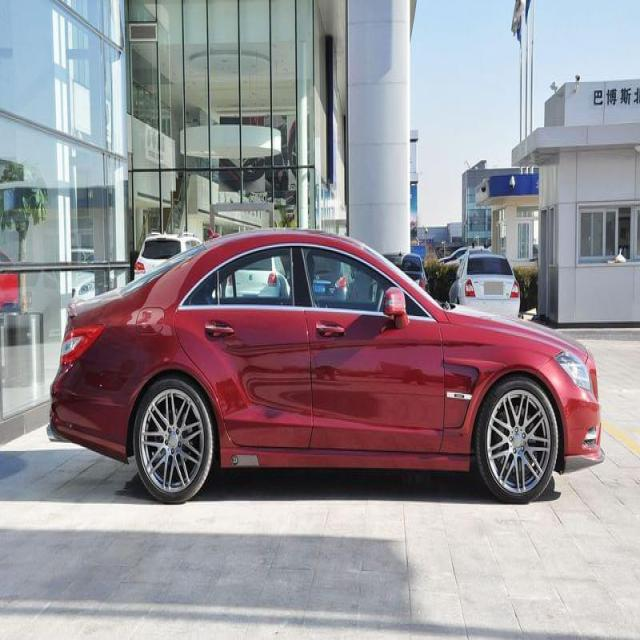back_right_side_light: (59, 321, 107, 369)
door: (172, 236, 314, 467)
front_bumper: (539, 358, 609, 466)
front_right_side_door: (294, 239, 446, 459)
front_right_side_light: (554, 348, 592, 392)
front_right_side_mirror: (383, 286, 409, 329)
rear_bumper: (50, 361, 128, 463)
wheel: (477, 376, 558, 505), (134, 378, 212, 503)
